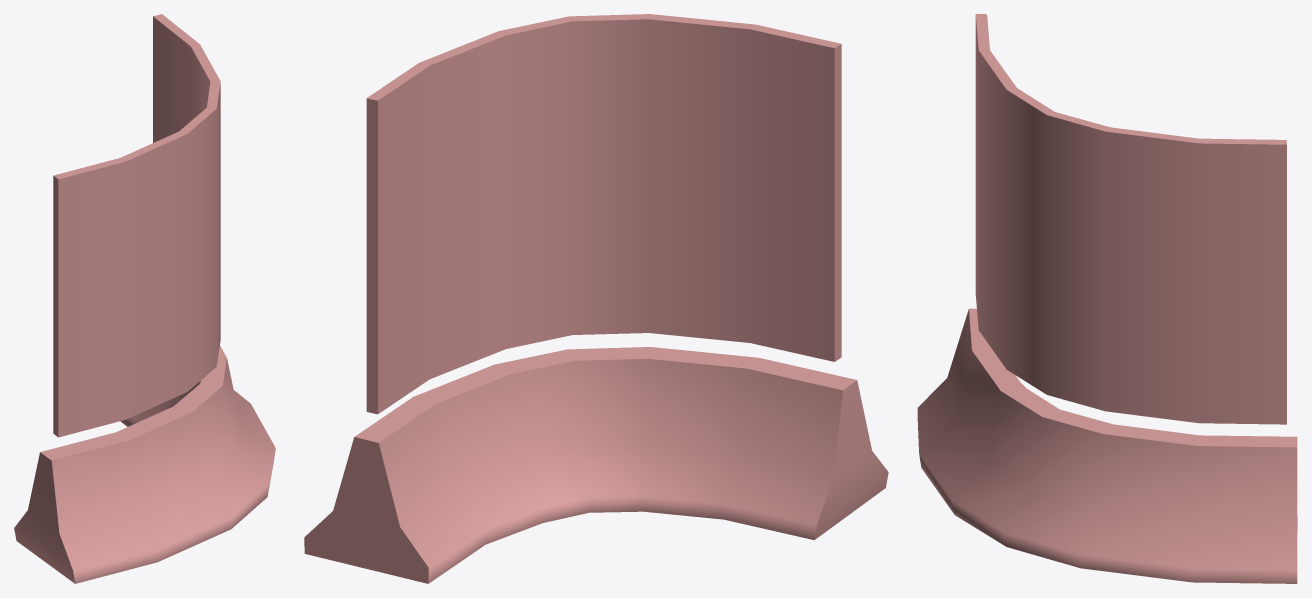
File: Fence_A_B_COL.fbx
3 views of the same model, side by side, from view 1: azimuth 30°, elevation 25°; view 2: azimuth 150°, elevation 25°; view 3: azimuth 270°, elevation 25° (orthographic). The views are drawn at different scales.
Parts seen in each view (by area): view 1: Fence_A_B_COL; view 2: Fence_A_B_COL; view 3: Fence_A_B_COL.
Part boxes in pixels (box(x1,y1,x2,y2)): Fence_A_B_COL: box(14, 14, 275, 583); Fence_A_B_COL: box(304, 14, 888, 583); Fence_A_B_COL: box(917, 14, 1297, 583).
Size of the model in its own units: 240 by 287 by 239.
